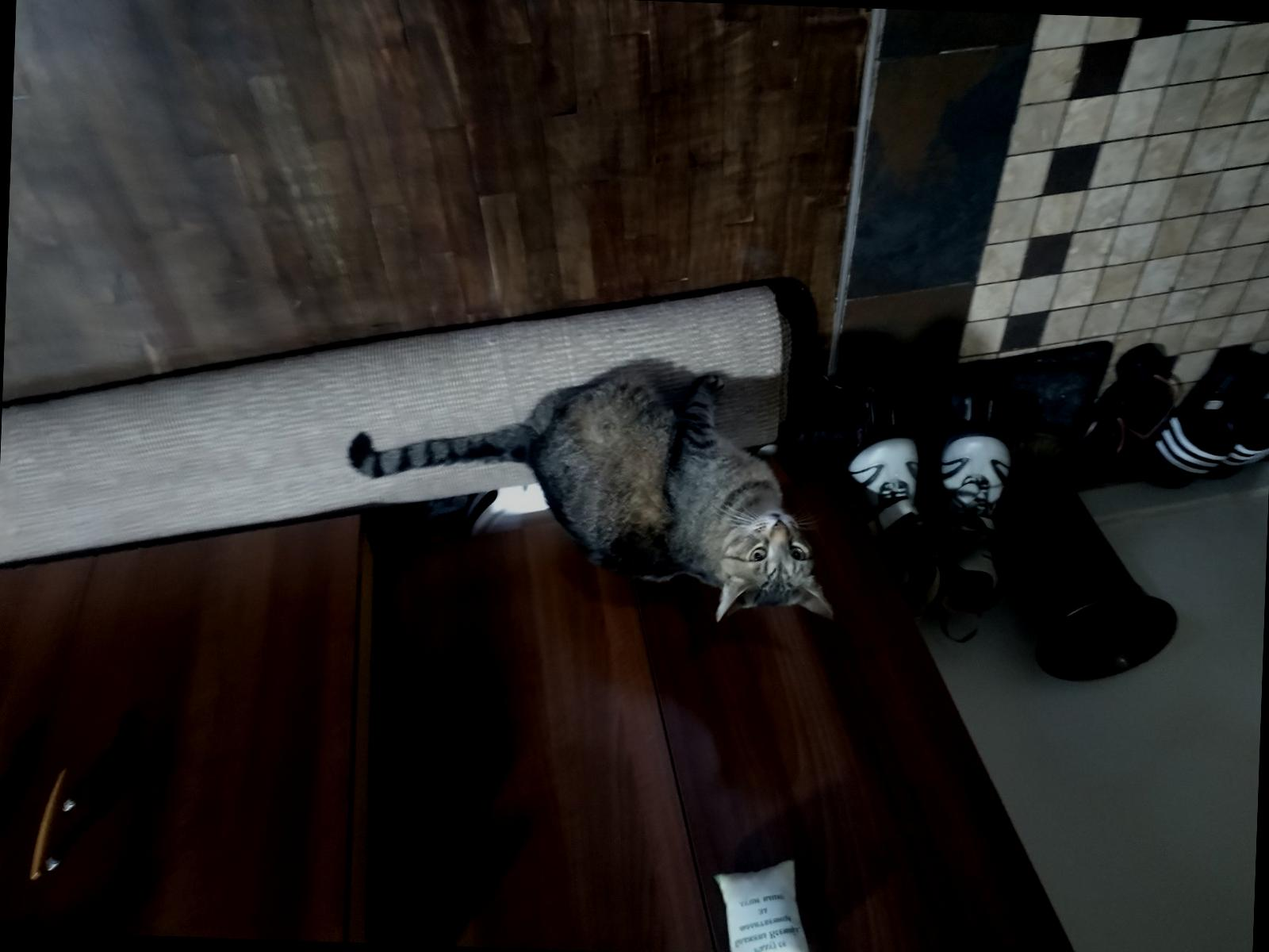macka: (344, 355, 849, 635)
